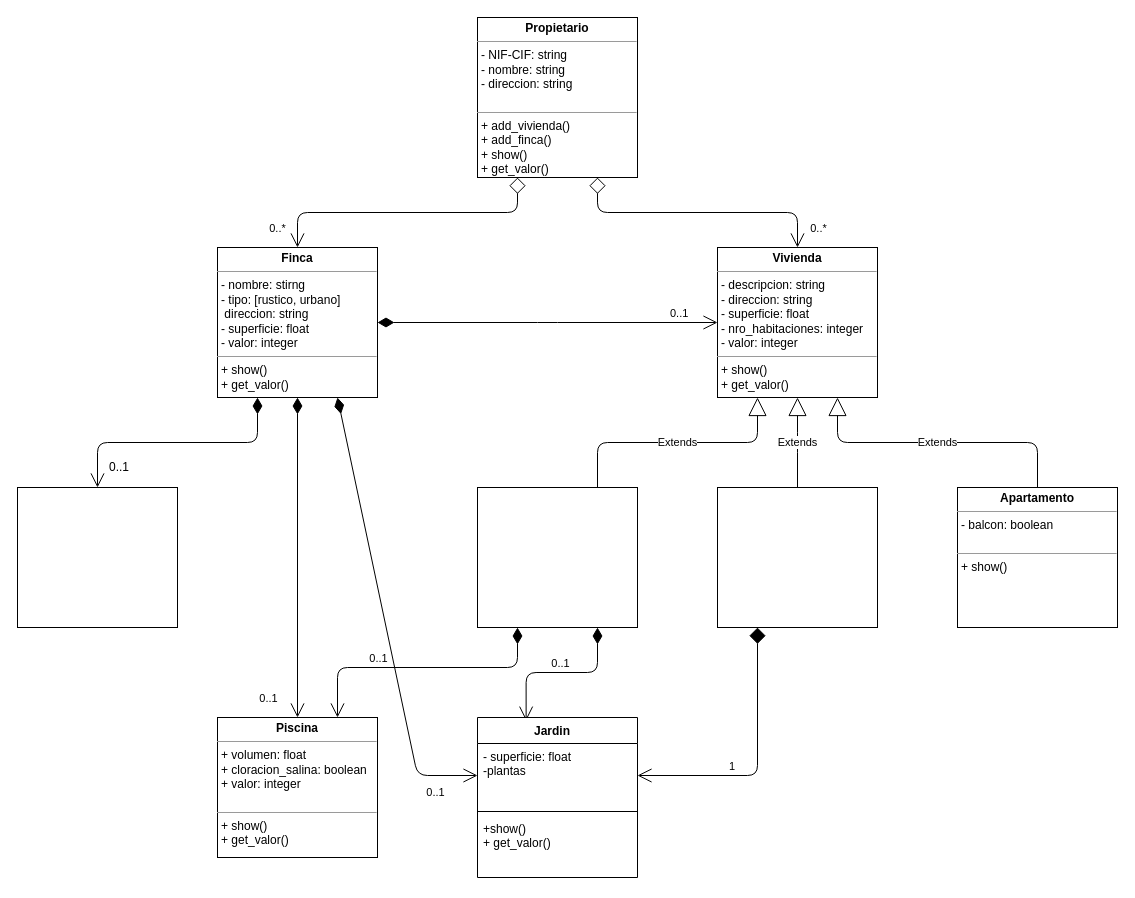
Image size: 1135x898. Some labels were removed from this diagram. Here are the shapes that lost their labels. From the top down, the centre of each, then its label:
[97,557]: Huerto - superficie: float - riego_por_goteo: Boolean + show() + get_valor()
[557,557]: Chalet + show() + get_valor()
[797,557]: Adosado + show() + get_valor()
